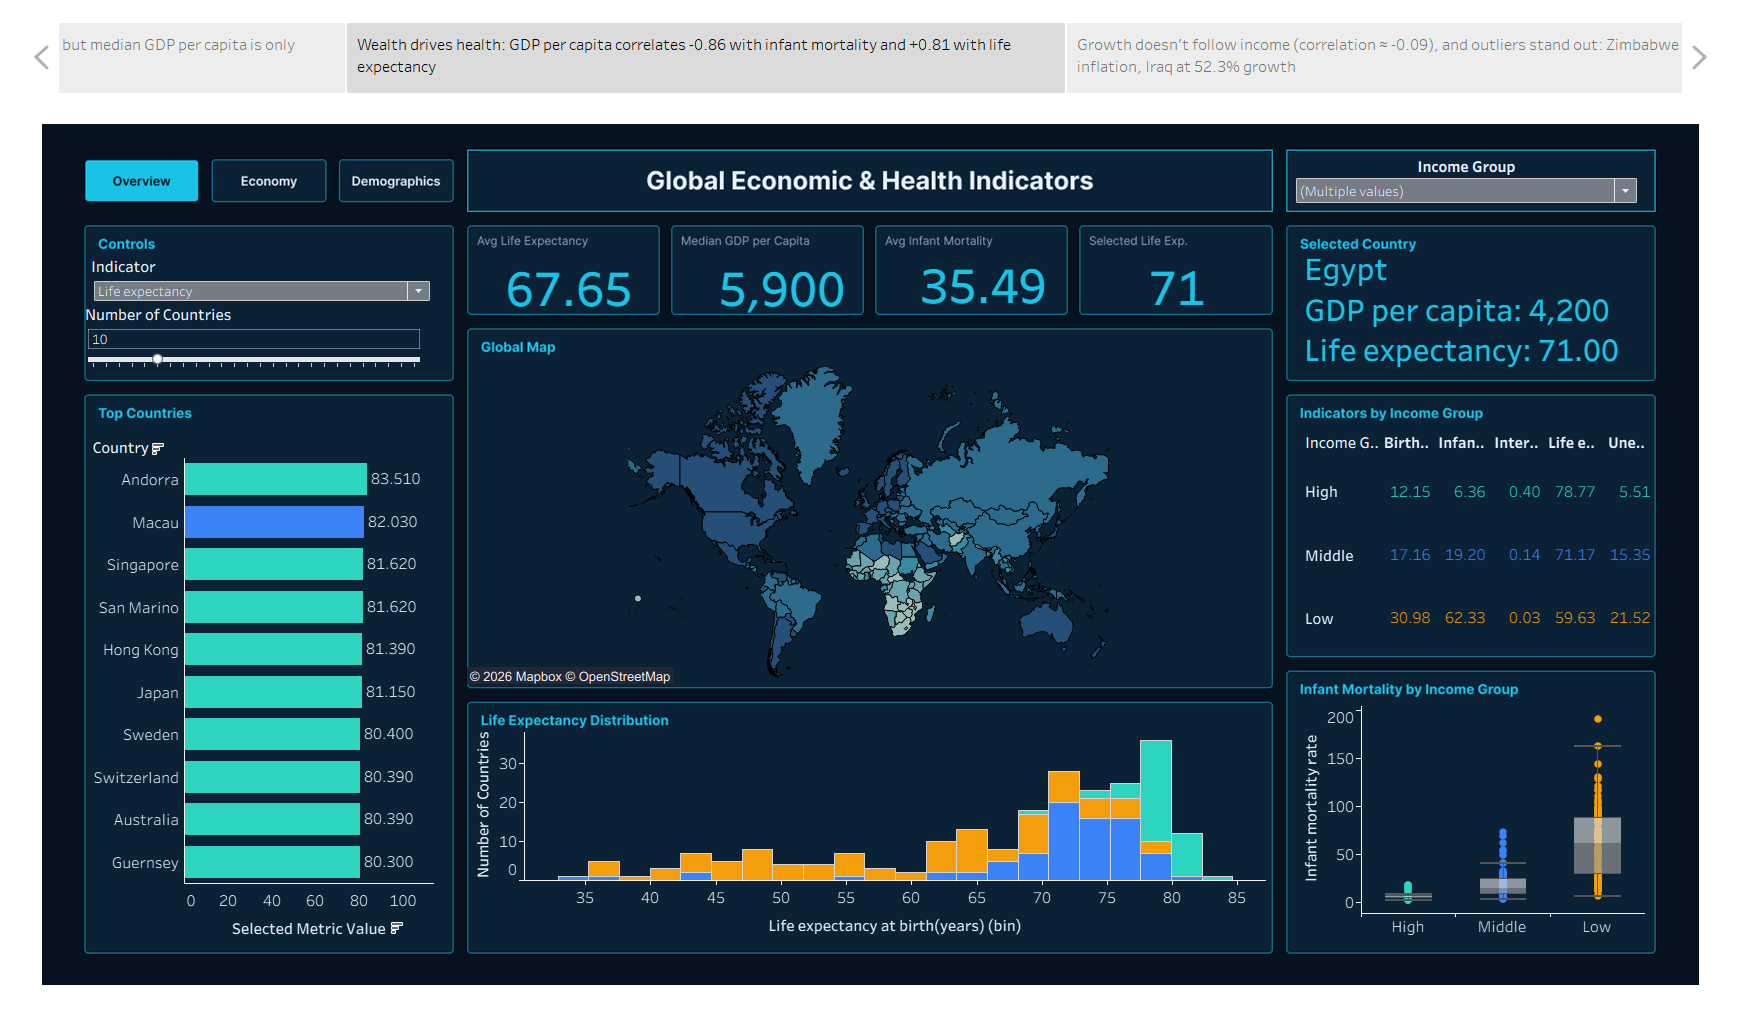

The dashboard page shown, as its layout file describes it:
{"tool":"tableau","page":{"name":"Dashboard 1","canvas":[1657,861],"ordinal":0},"visuals":[{"type":"image","param":"F:/DEPI/Mini Projects/Mini Project 3/D1 - Overview.png","box":[8,8,1641,845]},{"type":"filter","title":"Heatmap","param":"[federated.1wt7dck05r5s2l1c8t8xi11wyjcn].[none:Calculation_0835963271385095:nk]","box":[1251,32,347,48]},{"type":"dashboard-object","box":[30,48,117,45]},{"type":"dashboard-object","box":[160,48,117,45]},{"type":"dashboard-object","box":[290,48,117,45]},{"type":"worksheet","title":"Selected Country","mark":"Automatic","box":[1226,123,404,135]},{"type":"worksheet","title":"KPI Infant","mark":"Automatic","box":[869,128,140,73]},{"type":"worksheet","title":"KPI Selected","mark":"Automatic","box":[1095,130,89,68]},{"type":"worksheet","title":"KPI Life","mark":"Automatic","box":[457,131,140,74]},{"type":"worksheet","title":"KPI GDP","mark":"Automatic","box":[670,131,143,70]},{"type":"parameter","param":"[Parameters].[Parameter 0835963267944448]","box":[49,132,342,48]},{"type":"parameter","param":"[Parameters].[Parameter 0835963268968449]","box":[43,180,338,71]},{"type":"worksheet","title":"Map","mark":"Multipolygon","box":[422,229,809,333]},{"type":"worksheet","title":"Heatmap","mark":"Automatic","rows":["Calculation_0835963271385095"],"box":[1257,300,355,226]},{"type":"worksheet","title":"Top Countries","mark":"Automatic","rows":["Country"],"cols":["Calculation_0835963271819272"],"box":[42,314,350,508]},{"type":"worksheet","title":"Box Plot","mark":"Circle","rows":["Infant mortality rate(deaths/1000 live births)"],"cols":["Calculation_0835963271385095"],"box":[1251,582,352,232]},{"type":"worksheet","title":"Life Expectancy Distribution","mark":"Automatic","rows":["Life expectancy at birth(years)"],"cols":["Life expectancy at birth(years) (bin)"],"box":[423,608,801,211]}]}

Visuals, with their boxes on the page's 1657x861 design canvas (x1, y1, x2, y2). These are canvas units, not pixel positions in the 1742x1012 screenshot, which may show the page scaled, cropped or inside an application window:
image: 8, 8, 1649, 853
"Heatmap" filter: 1251, 32, 1598, 80
dashboard-object: 30, 48, 147, 93
dashboard-object: 160, 48, 277, 93
dashboard-object: 290, 48, 407, 93
"Selected Country" worksheet: 1226, 123, 1630, 258
"KPI Infant" worksheet: 869, 128, 1009, 201
"KPI Selected" worksheet: 1095, 130, 1184, 198
"KPI Life" worksheet: 457, 131, 597, 205
"KPI GDP" worksheet: 670, 131, 813, 201
parameter: 49, 132, 391, 180
parameter: 43, 180, 381, 251
"Map" worksheet (Multipolygon marks): 422, 229, 1231, 562
"Heatmap" worksheet: 1257, 300, 1612, 526
"Top Countries" worksheet: 42, 314, 392, 822
"Box Plot" worksheet (Circle marks): 1251, 582, 1603, 814
"Life Expectancy Distribution" worksheet: 423, 608, 1224, 819
